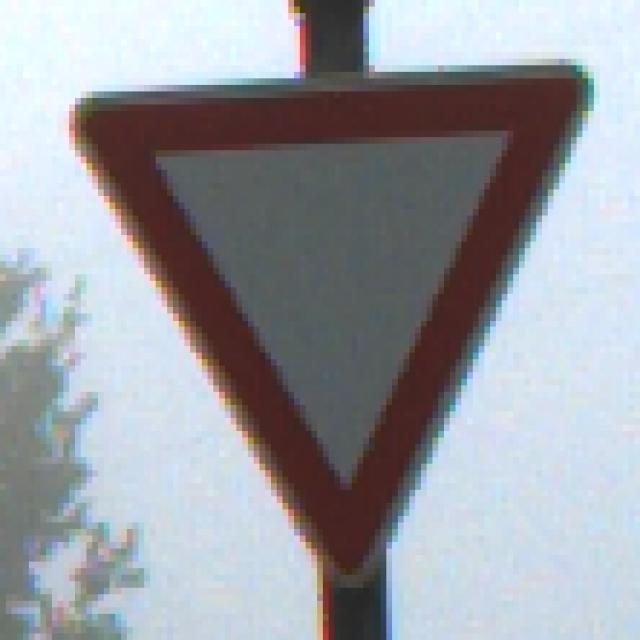Give Way: (59, 53, 589, 589)
